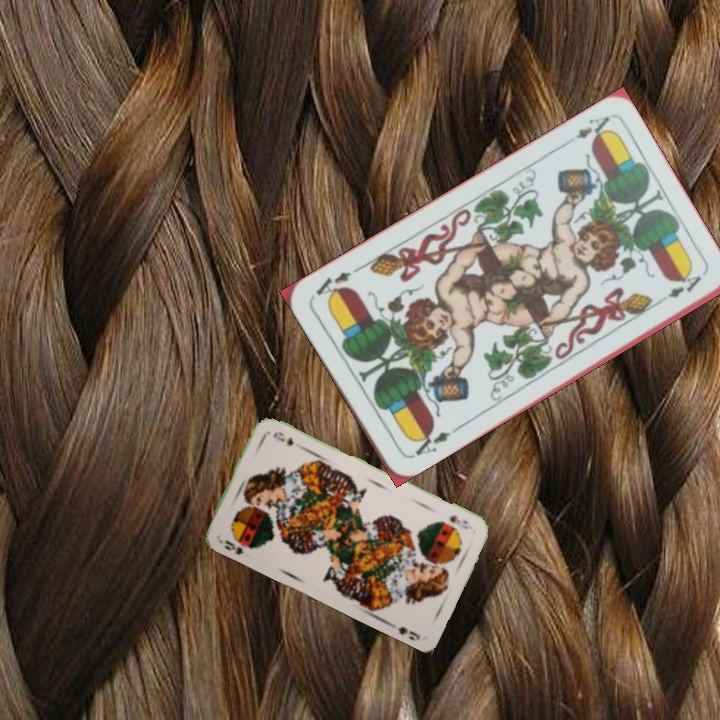EA: (407, 424, 453, 461), (571, 111, 614, 145)
SO: (214, 536, 246, 557), (445, 511, 471, 532)
